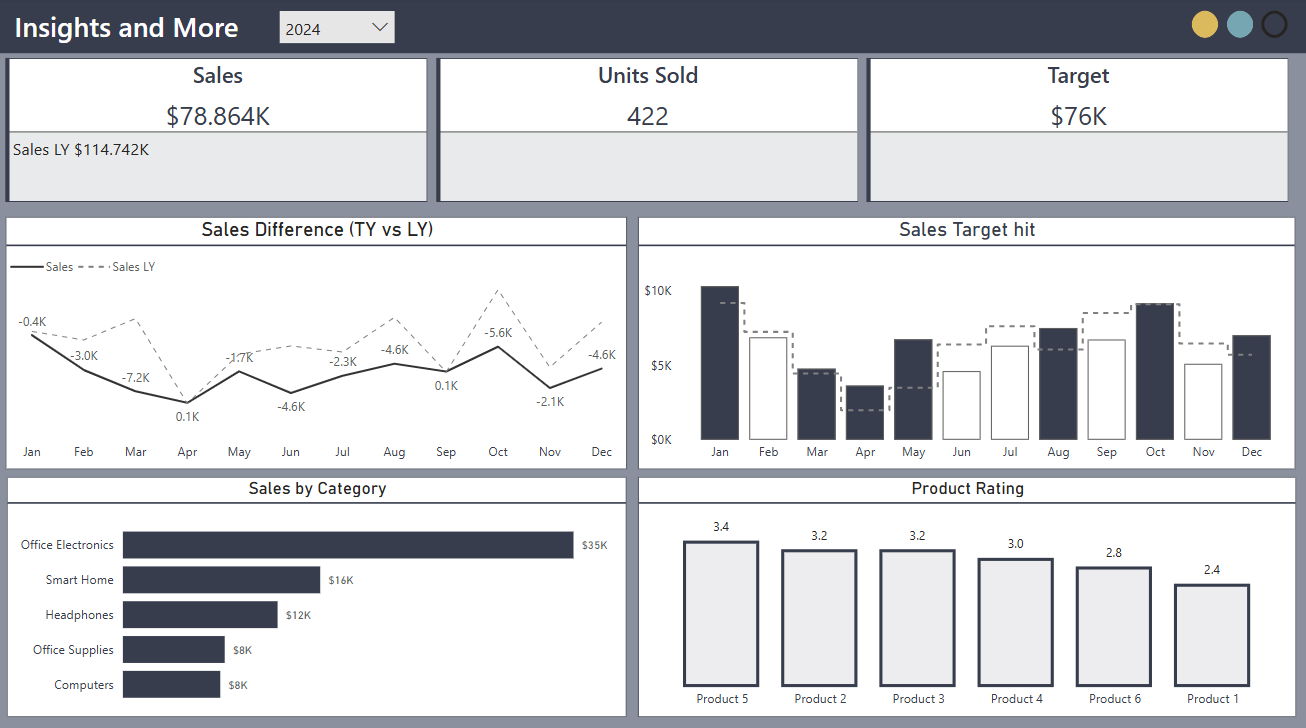

The page's visual inventory and layout, read from the dashboard file:
{"tool":"powerbi","page":{"name":"Color Change","canvas":[1280,720],"ordinal":0},"visuals":[{"type":"group","id":"g1","title":"Group 1","box":[0,0,1280.2,719.8],"z":0},{"type":"shape","box":[0,0,1280.2,719.8],"z":0,"group":"g1"},{"type":"clusteredBarChart","title":"Sales by Category","fields":{"Category":["Dim_Product.Segment"],"Y":["Fct_Sales._Sales"]},"box":[9,468.8,606.7,235],"z":1000},{"type":"shape","title":"Header","box":[0,0,1280,54],"z":2000},{"type":"advancedSlicerVisual","title":"Conditional formatting: HEXA","fields":{"Values":["Color.Color"]},"box":[1163,7.7,105.9,37.5],"z":3000},{"type":"slicer","fields":{"Values":["Dim_Date.Year"]},"box":[265.9,2.2,132.4,43],"z":4000},{"type":"lineChart","title":"Sales Difference (TY vs LY)","fields":{"Y":["Fct_Sales._Sales","Fct_Sales.Sales LY"],"Category":["Dim_Date.Month Name Short"]},"box":[7.9,213.5,607.8,247.4],"z":5000},{"type":"lineClusteredColumnComboChart","title":"Sales Target hit","fields":{"Category":["Dim_Date.Month Name Short"],"Y":["Fct_Sales._Sales"],"Y2":["Dim_Target._Target"]},"box":[625.9,213.5,642.8,247.4],"z":6000},{"type":"clusteredColumnChart","title":"Product Rating","fields":{"Category":["Product.Product"],"Y":["Avg(Product.Rating)"]},"box":[625.9,468.8,644,235],"z":7000},{"type":"cardVisual","fields":{"Data":["Sales._Sales","Sales._Units Sold","Target._Target"]},"box":[2.4,53.8,1266.9,151.6],"z":8000}]}

Visuals, with their boxes in screenshot pixels (x1, y1, x2, y2), scaled from the page's 1280x720 canvas onto the 1306x728 screenshot:
"Group 1" group: {"x1": 0, "y1": 0, "x2": 1305, "y2": 727}
shape: {"x1": 0, "y1": 0, "x2": 1305, "y2": 727}
"Sales by Category" clusteredBarChart: {"x1": 9, "y1": 474, "x2": 628, "y2": 712}
"Header" shape: {"x1": 0, "y1": 0, "x2": 1305, "y2": 55}
"Conditional formatting: HEXA" advancedSlicerVisual: {"x1": 1187, "y1": 8, "x2": 1295, "y2": 46}
slicer - Dim_Date.Year: {"x1": 271, "y1": 2, "x2": 406, "y2": 46}
"Sales Difference (TY vs LY)" lineChart: {"x1": 8, "y1": 216, "x2": 628, "y2": 466}
"Sales Target hit" lineClusteredColumnComboChart: {"x1": 639, "y1": 216, "x2": 1294, "y2": 466}
"Product Rating" clusteredColumnChart: {"x1": 639, "y1": 474, "x2": 1296, "y2": 712}
cardVisual - Sales._Sales x Sales._Units Sold: {"x1": 2, "y1": 54, "x2": 1295, "y2": 208}
